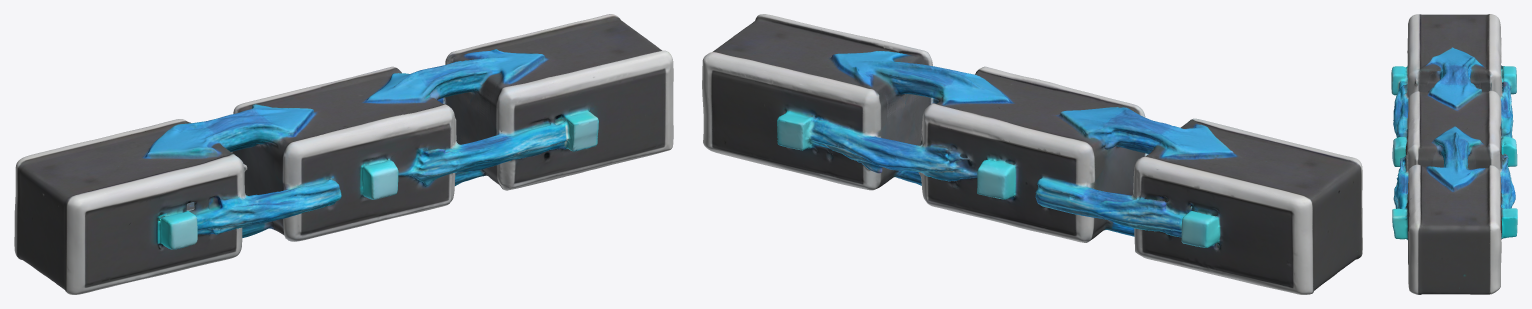
File: Data_Flow_Pipeline.glb
3 renders of one model, left to right at view 1: azimuth 30°, elevation 25°; view 2: azimuth 150°, elevation 25°; view 3: azimuth 270°, elevation 25°, orthographic. The views are drawn at different scales.
Bounding box in the file's own units: 2 × 0.3963 × 0.4986.
Materials: 1 (1 with a texture image).
